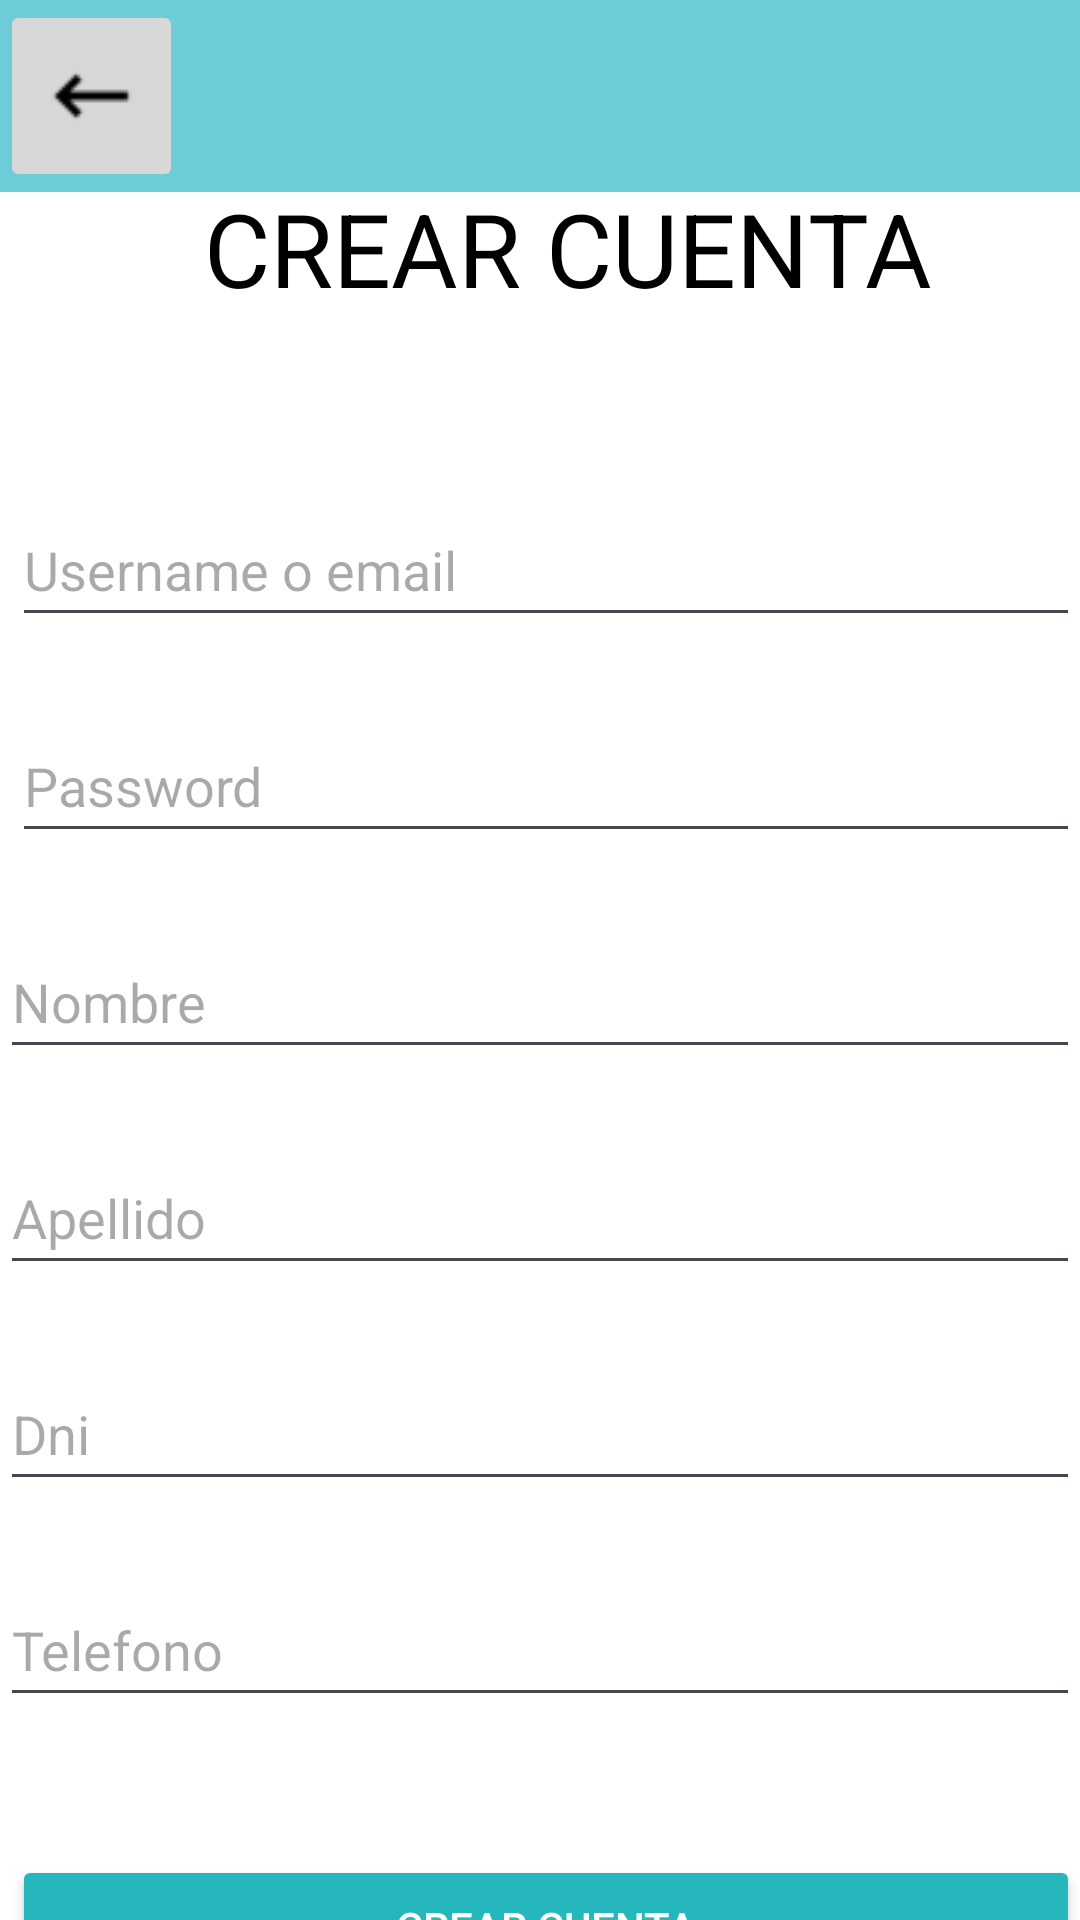

Locate icon controls on the screen. Image size 1080 × 1920, boxes as (x1, y1, x2, y2).
flecha regreso: (12, 18, 171, 174)
